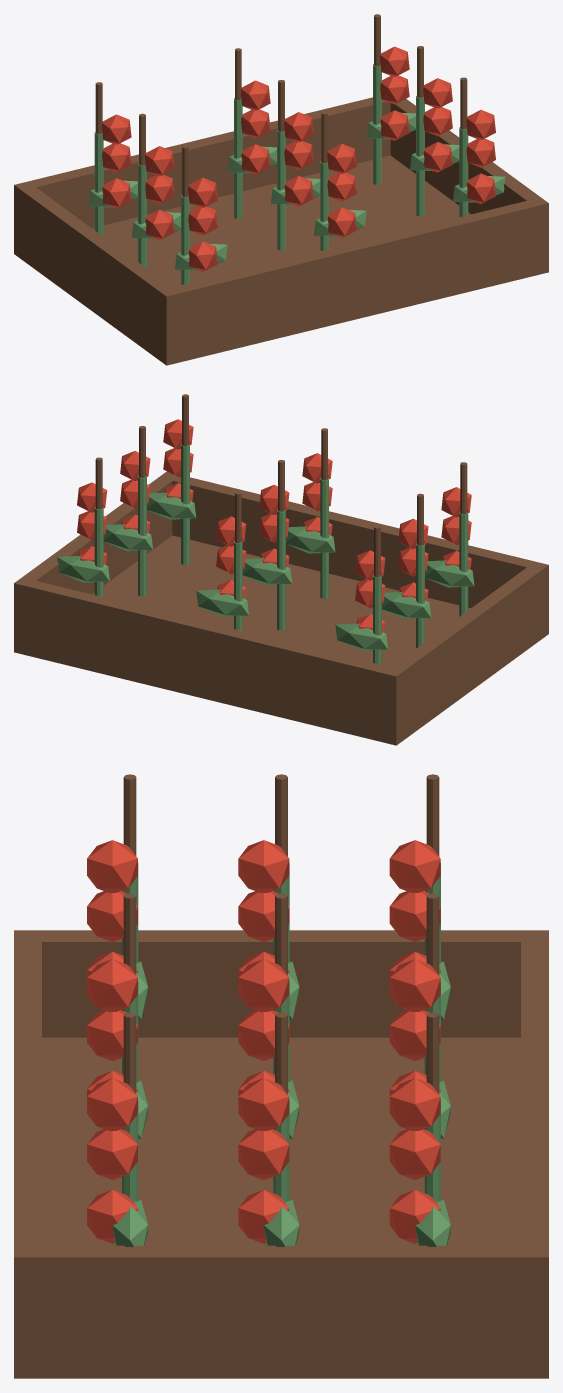
The model's file is nature_tomatoes.glb.
The picture shows the model from 3 angles, top to bottom: view 1: azimuth 30°, elevation 25°; view 2: azimuth 150°, elevation 25°; view 3: azimuth 270°, elevation 25°; orthographic projection. The views are drawn at different scales.
Visible parts, largest first — view 1: nature_tomatoes; view 2: nature_tomatoes; view 3: nature_tomatoes.
Part boxes in pixels (x1,y1,x2,y2): nature_tomatoes: [14, 14, 548, 365]; nature_tomatoes: [14, 394, 548, 745]; nature_tomatoes: [14, 774, 548, 1378].
Size of the model in its own units: 2.2 by 1 by 1.52.
